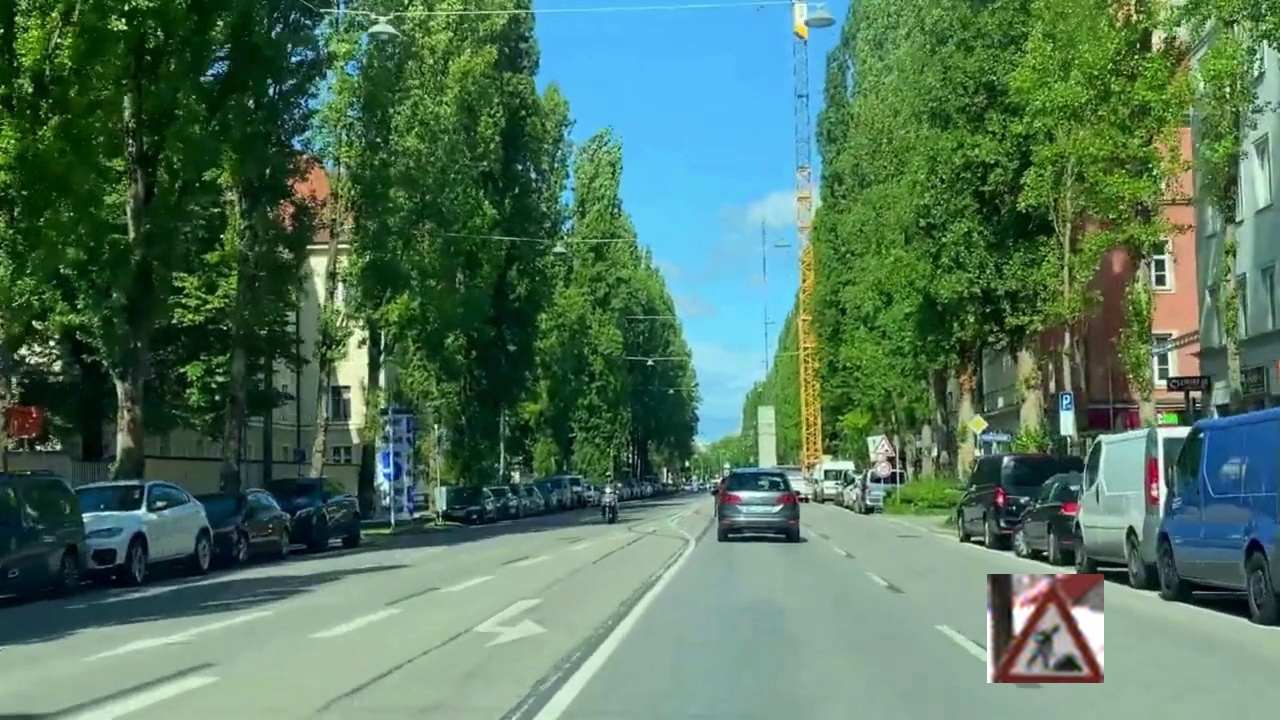Road work: (987, 574, 1104, 683)
